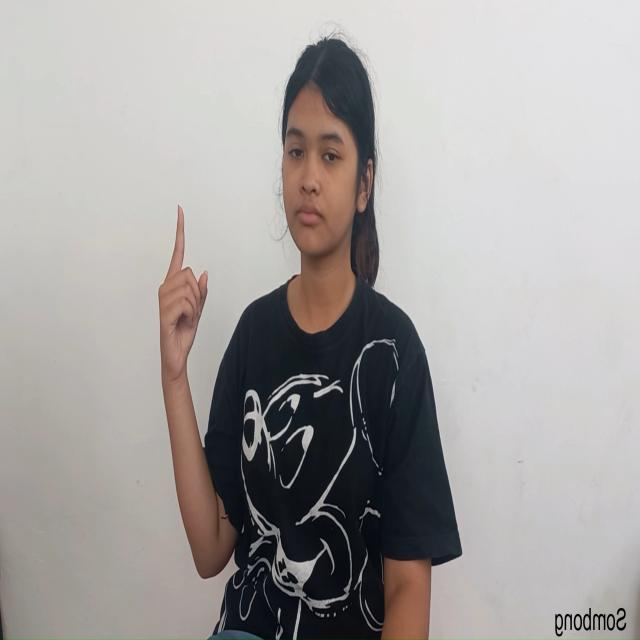Sombong -BISINDO-: (155, 186, 217, 582)
